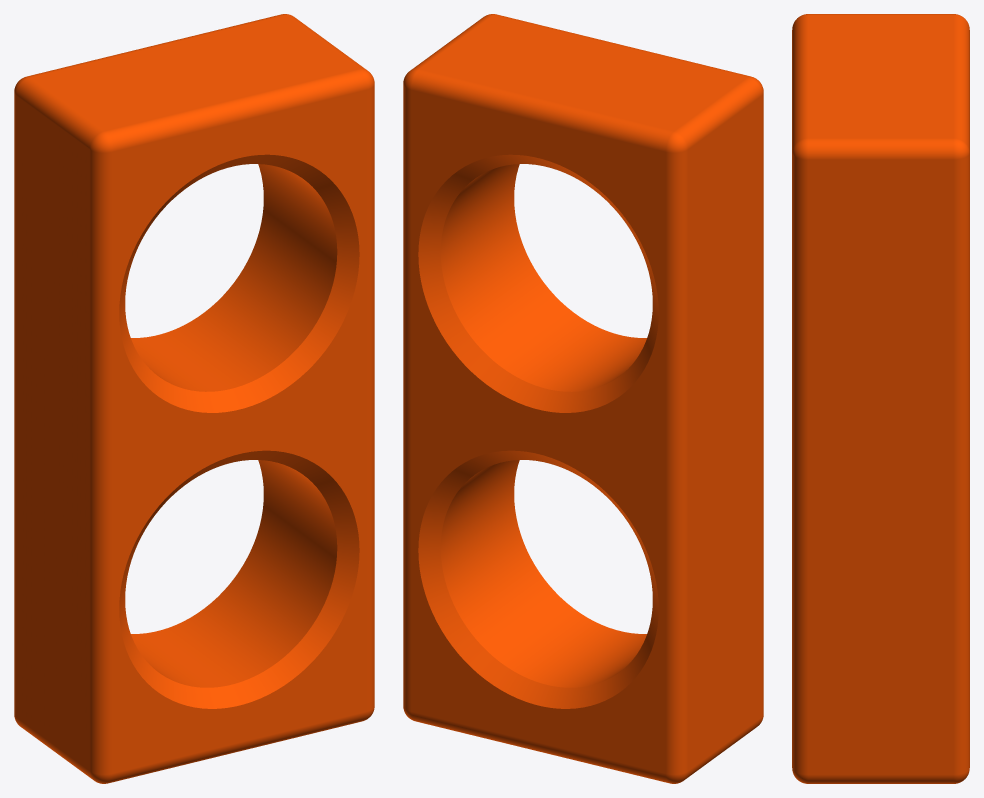
The model's file is toy_five_insertion_two.obj.
3 views of the same model, side by side, from view 1: azimuth 30°, elevation 25°; view 2: azimuth 150°, elevation 25°; view 3: azimuth 270°, elevation 25° (orthographic).
Bounding box in the file's own units: 0.02 × 0.044 × 0.011.
